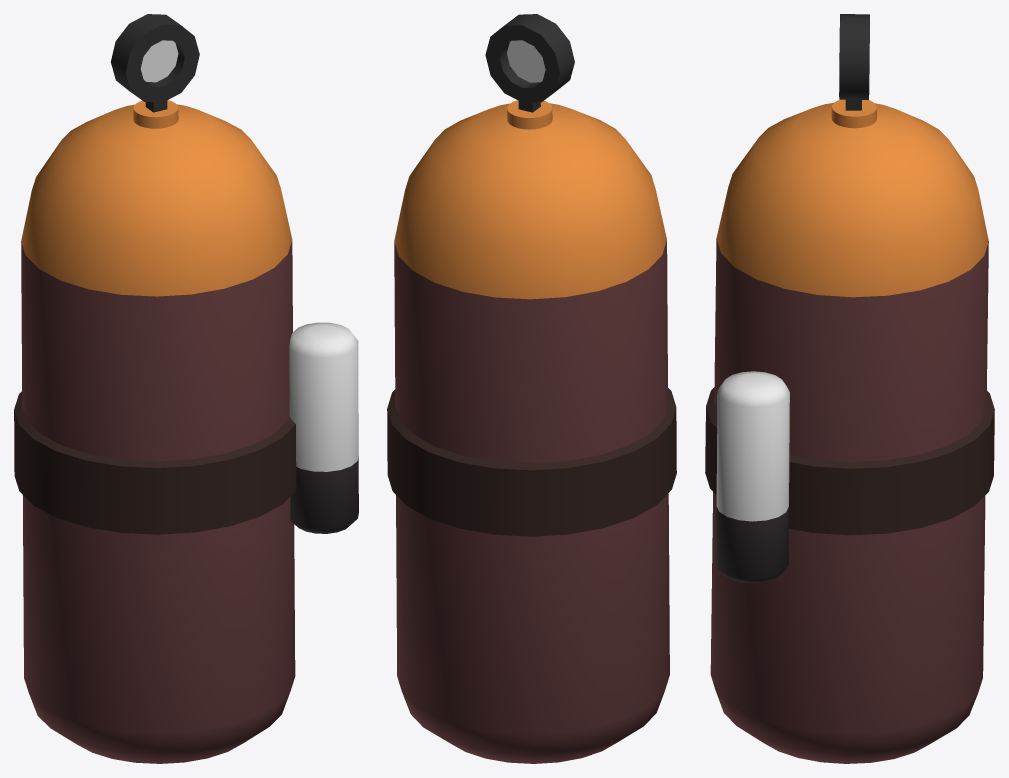
The model's file is Balon.fbx.
3 views of the same model, side by side, from view 1: azimuth 30°, elevation 25°; view 2: azimuth 150°, elevation 25°; view 3: azimuth 270°, elevation 25° (orthographic).
Visible parts, largest first — view 1: Cube.016; view 2: Cube.016; view 3: Cube.016.
Boxes of the visible parts, x1,y1,x2,y2 form: Cube.016: (14,14,358,763); Cube.016: (387,14,676,763); Cube.016: (705,14,994,763).
Size of the model in its own units: 121 by 303 by 111.
